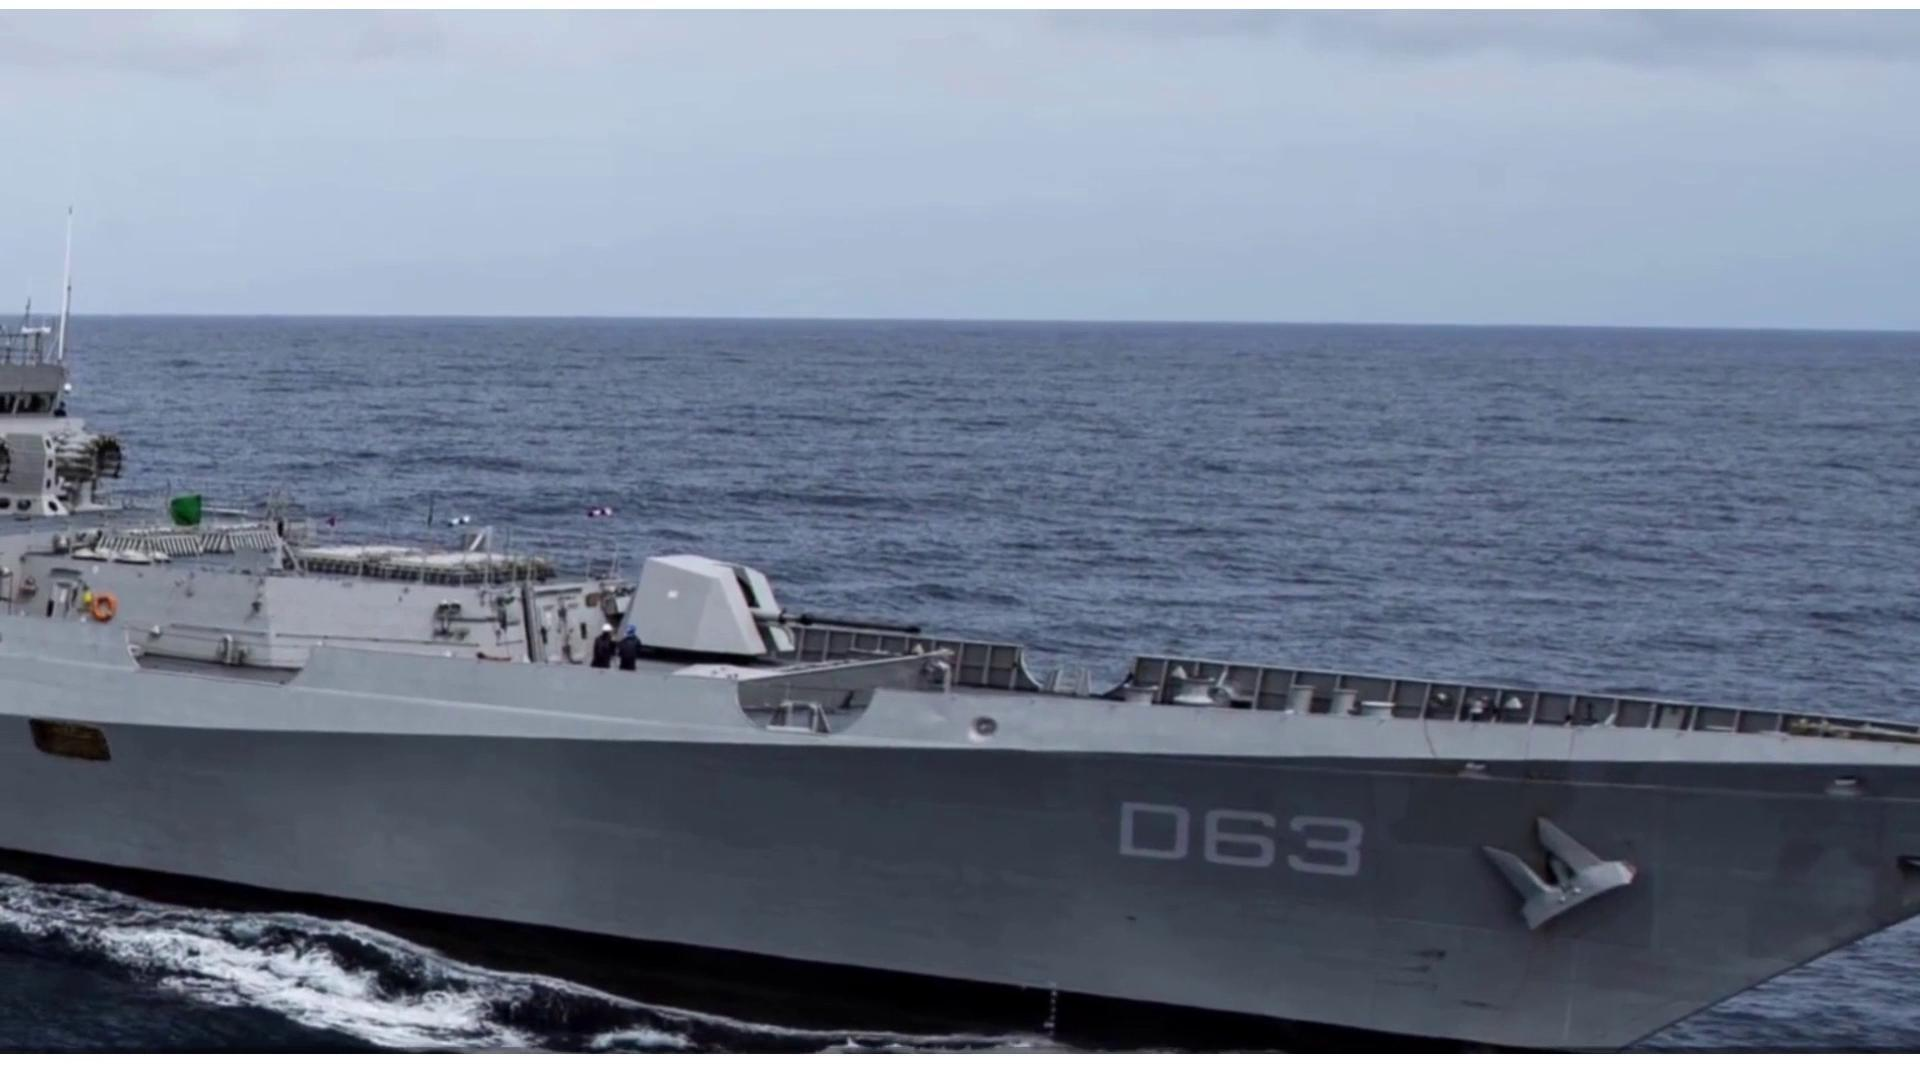OCR: (1116, 789, 1369, 885)
